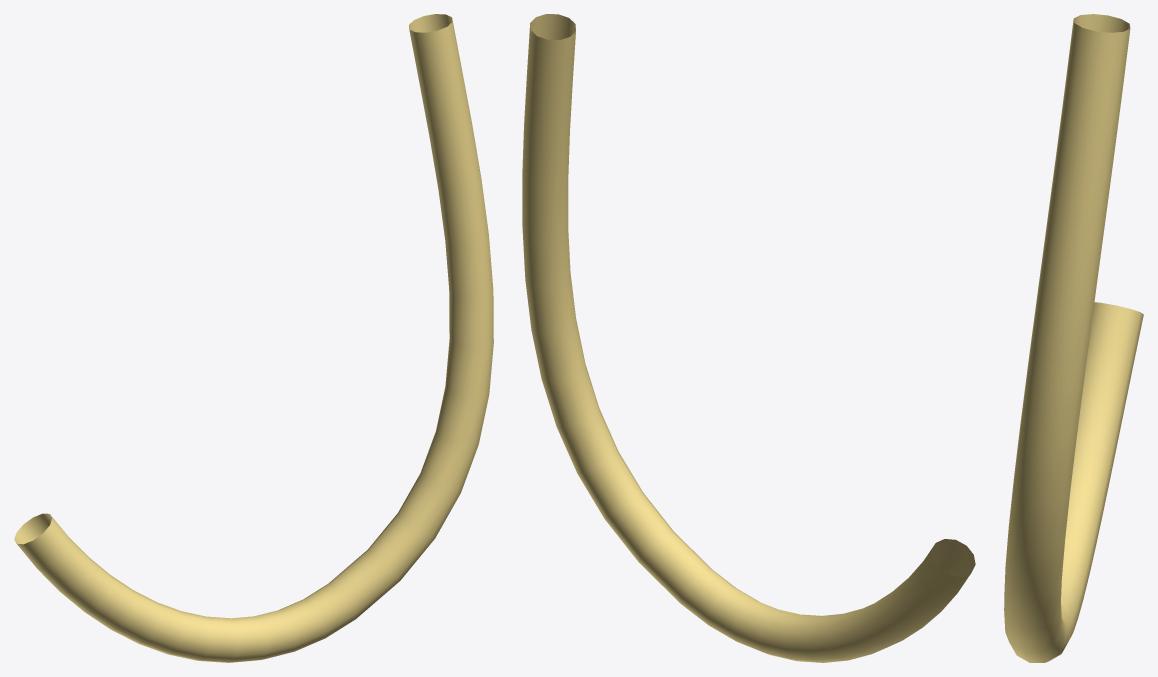
3 renders of one model, left to right at view 1: azimuth 30°, elevation 25°; view 2: azimuth 150°, elevation 25°; view 3: azimuth 270°, elevation 25°, orthographic. The views are drawn at different scales.
Parts seen in each view (by area): view 1: ZA_544d9833883861bc; view 2: ZA_544d9833883861bc; view 3: ZA_544d9833883861bc.
Boxes of the visible parts, x1,y1,x2,y2 form: ZA_544d9833883861bc: (14,14,493,662); ZA_544d9833883861bc: (522,14,975,662); ZA_544d9833883861bc: (1004,14,1143,662).
Bounding box in the file's own units: 0.0114 × 0.014 × 0.00239.
